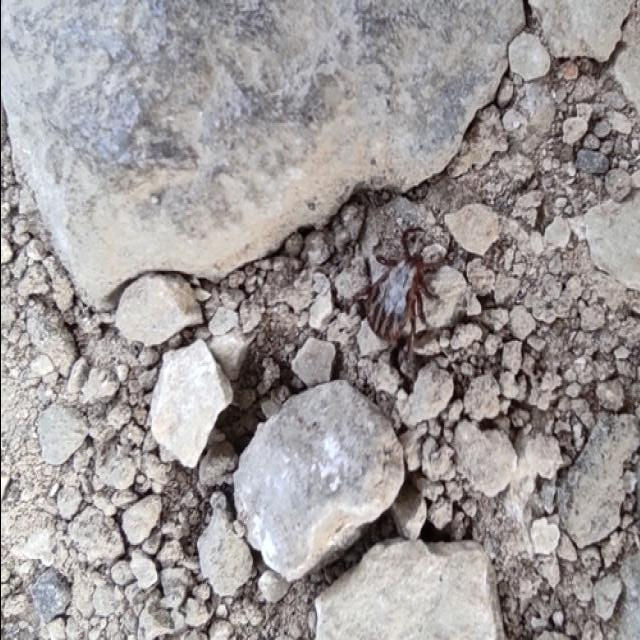Dermacentor Reticulatus-M: (366, 226, 451, 346)
